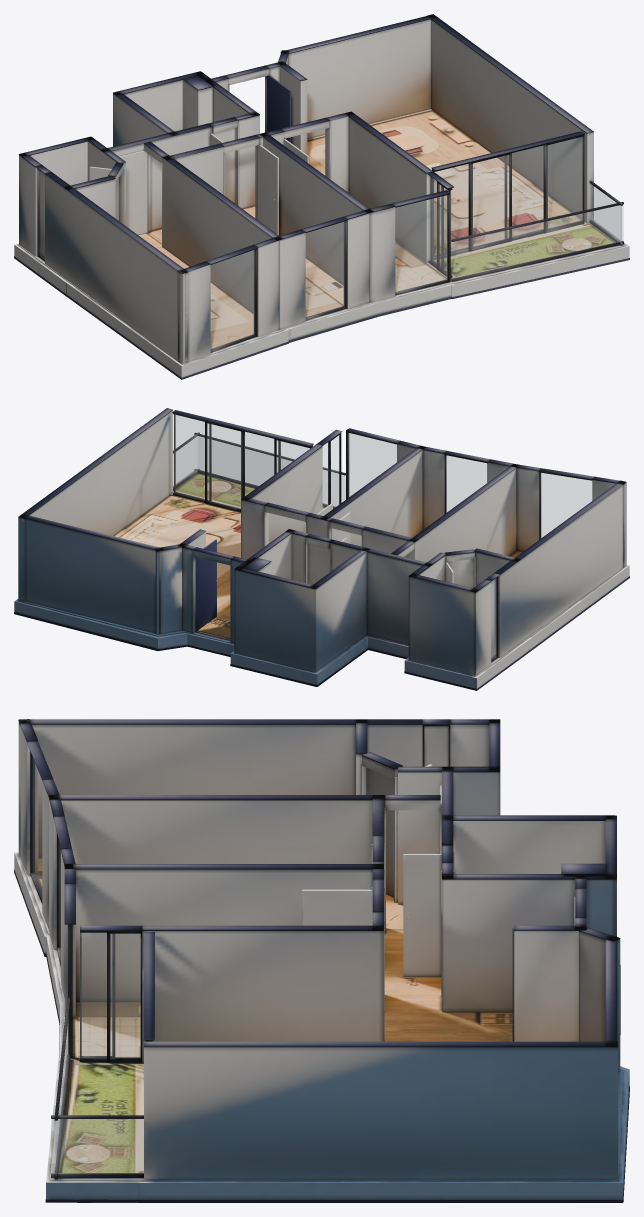
The picture shows the model from 3 angles, top to bottom: view 1: azimuth 30°, elevation 25°; view 2: azimuth 150°, elevation 25°; view 3: azimuth 270°, elevation 25°; orthographic projection. The views are drawn at different scales.
Parts seen in each view (by area): view 1: plan, glass0_m, railg1_m, glass2_m, glass4_m, glass3_m, glass1_m, railg0_m; view 2: plan, glass0_m, railg1_m, glass4_m, glass2_m, glass3_m, glass1_m, railg0_m; view 3: plan, glass1_m, railg0_m, glass4_m.
Part boxes in pixels (box(x1,y1,x2,y2)): plan: box(14, 14, 629, 379); glass0_m: box(434, 137, 582, 252); railg1_m: box(452, 205, 623, 278); glass2_m: box(395, 195, 447, 292); glass4_m: box(211, 250, 254, 349); glass3_m: box(306, 222, 344, 317); glass1_m: box(430, 176, 451, 275); railg0_m: box(591, 184, 621, 242); plan: box(14, 408, 629, 690); glass0_m: box(173, 414, 309, 508); railg1_m: box(198, 436, 345, 506); glass4_m: box(541, 473, 591, 537); glass2_m: box(348, 433, 396, 496); glass3_m: box(446, 455, 486, 512); glass1_m: box(323, 436, 338, 508); railg0_m: box(173, 437, 196, 486); plan: box(14, 719, 629, 1202); glass1_m: box(80, 933, 140, 1057); railg0_m: box(51, 1119, 143, 1173); glass4_m: box(33, 759, 41, 894).
Size of the model in its own units: 12.08 by 2.62 by 9.48.
Materials: 2 (1 with a texture image).
